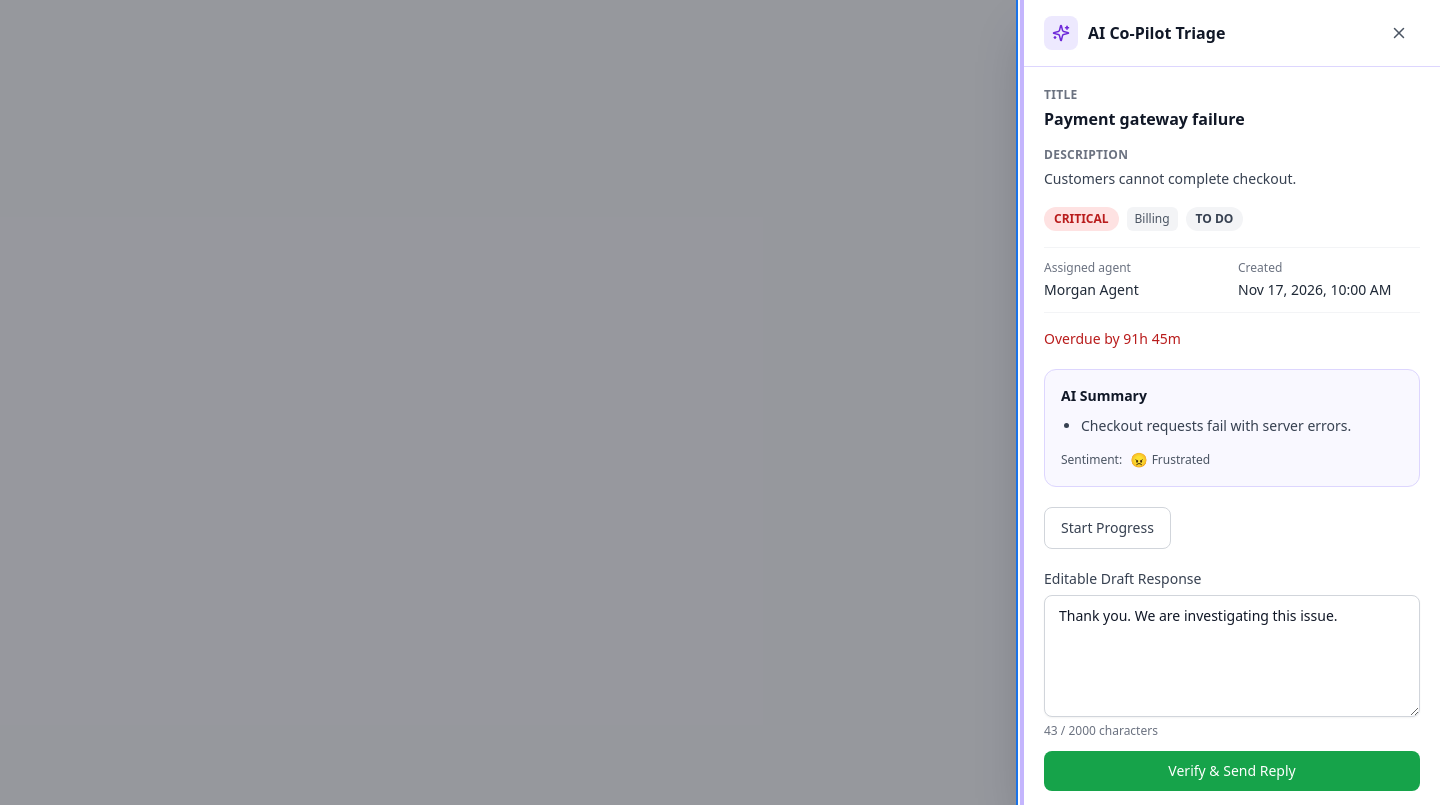
Test: AiCoPilotDrawer › shows a backend conflict message and requests a refresh
Click the button "Verify & Send Reply".
click(1232, 771)  # box [1044,751,1420,791]
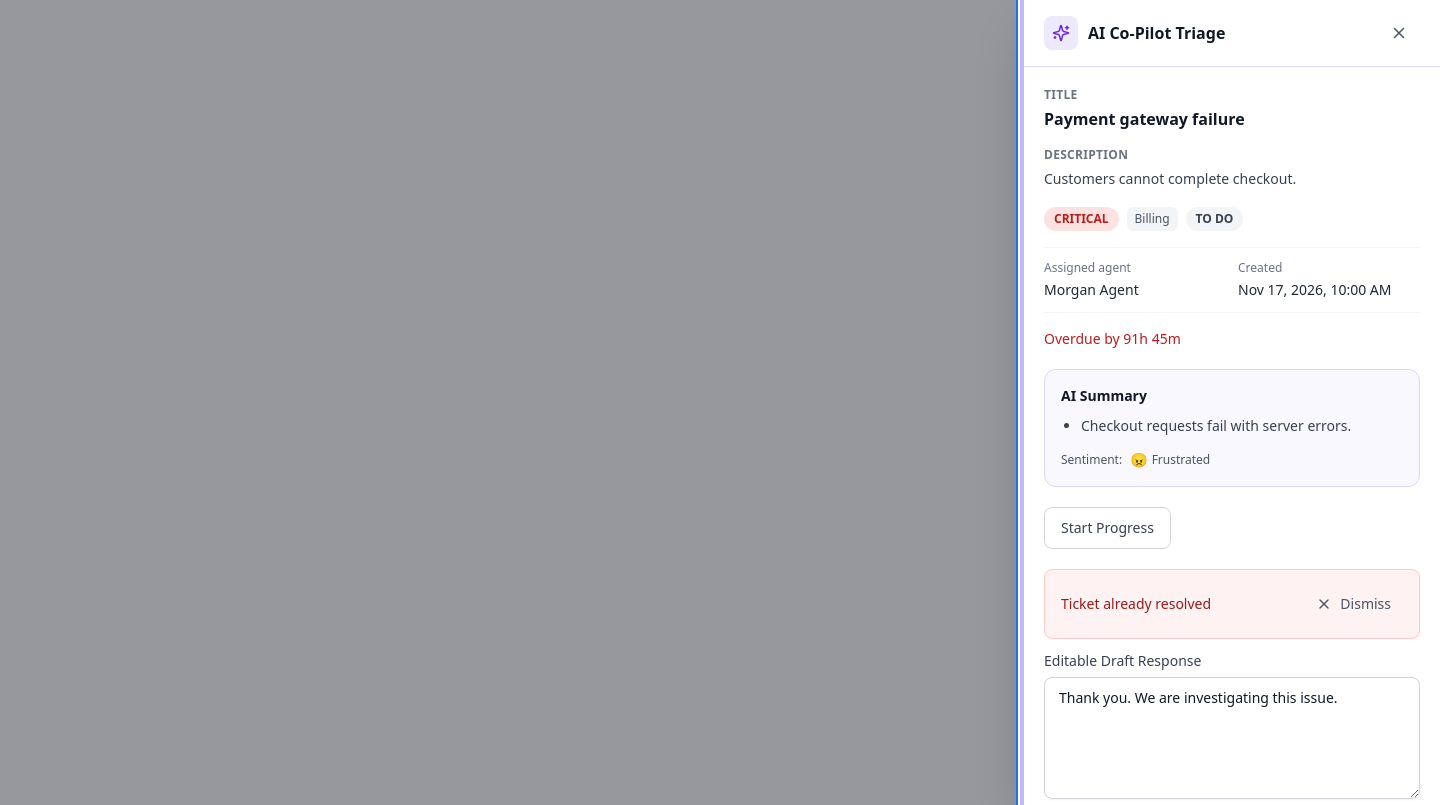
Check: the message shows "Ticket already resolved", box [1061,594,1211,613]
